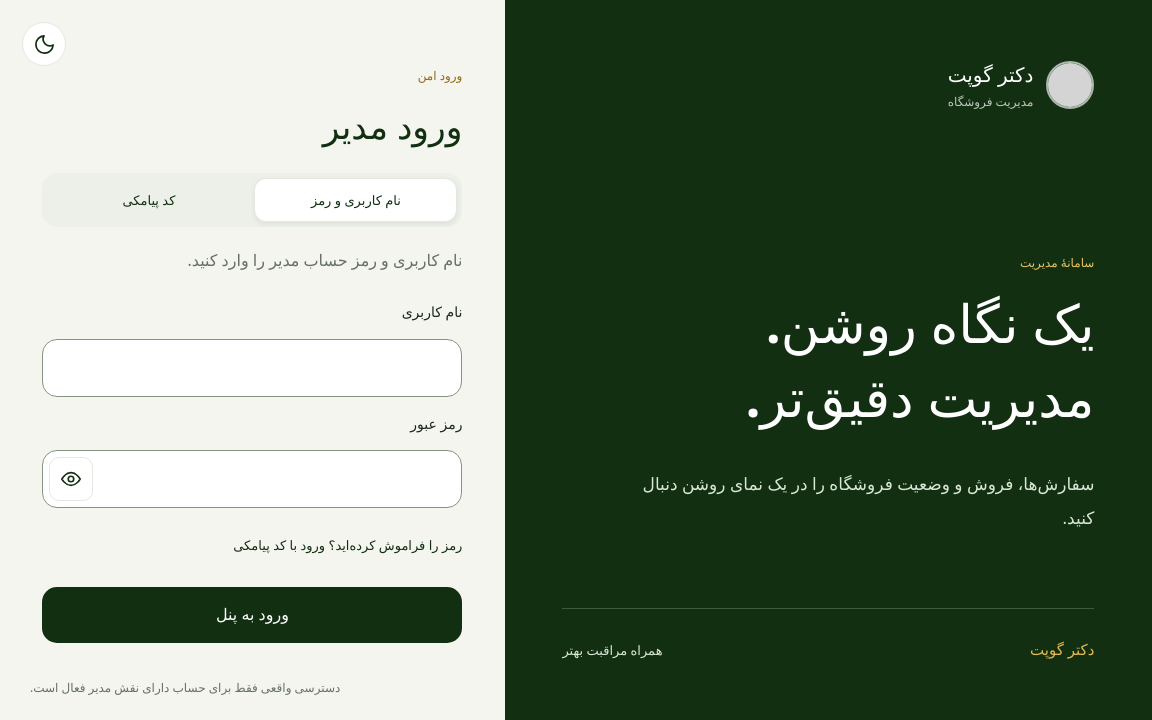
Test: defaults to password login, submits once and keeps a non-admin account out of the workspace
Type " Kian " into the field labelled "نام کاربری". click: (252, 368)
box: [42,339,462,397]
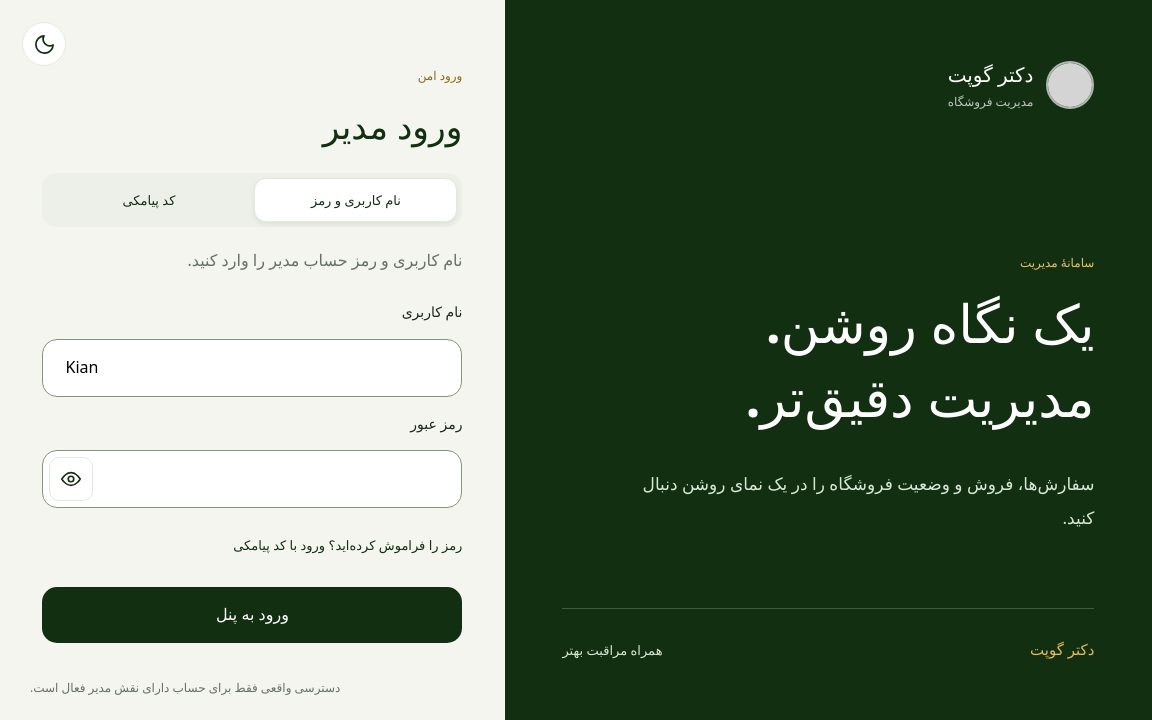
Type " raw password " into the password field labelled "رمز عبور". click: (252, 479)
box: [42,450,462,508]
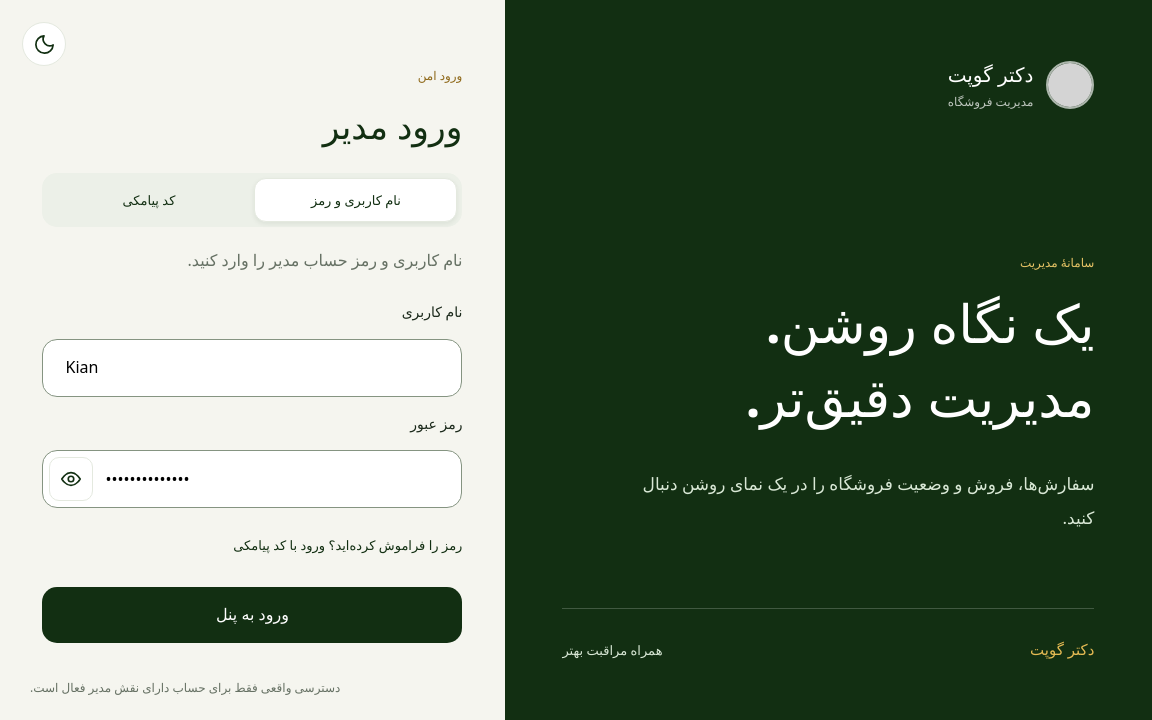
Submit the form labelled "نام کاربری", box [42,300,462,643]
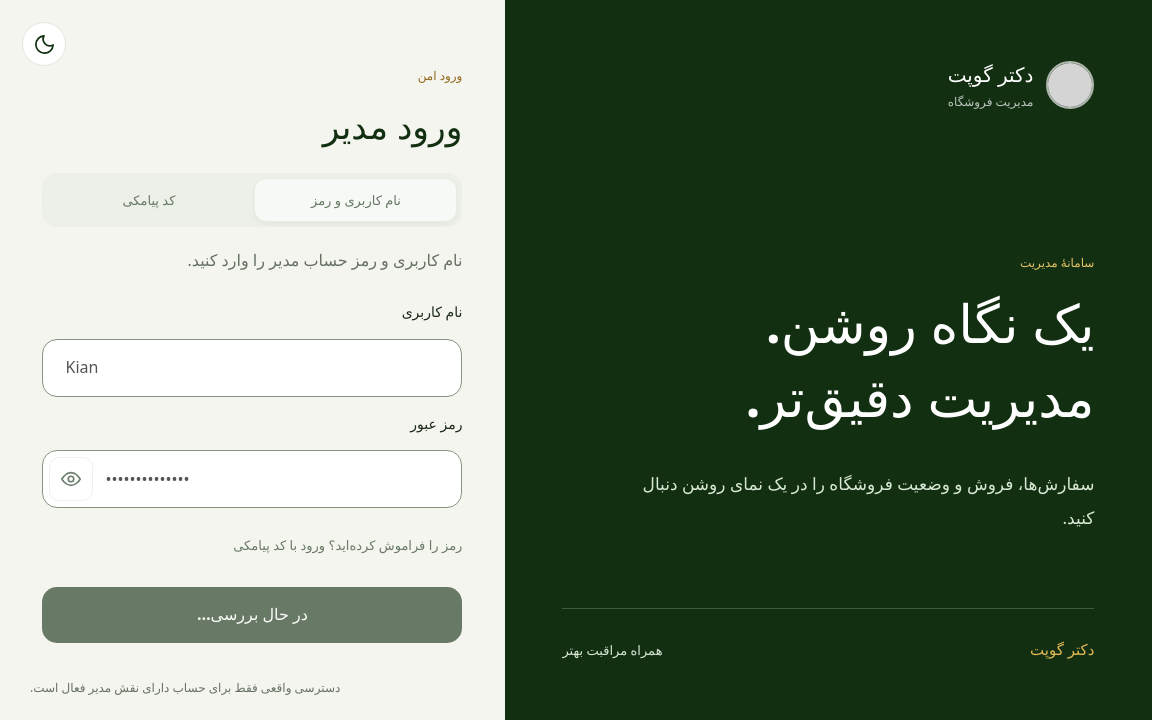
Submit the form labelled "نام کاربری", box [42,300,462,643]
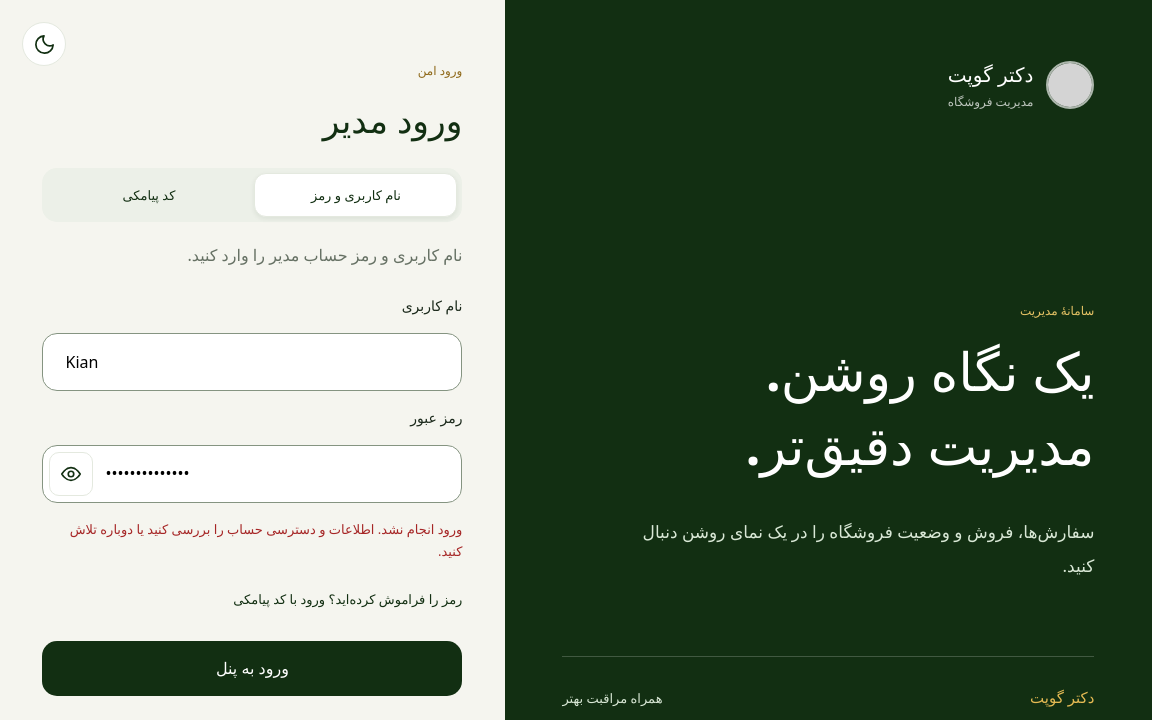
Expected: the heading "ورود مدیر" is shown, [323,96,462,143]
Result: the message shows "اطلاعات و دسترسی حساب را بررسی کنید" at [70,520,462,560]
